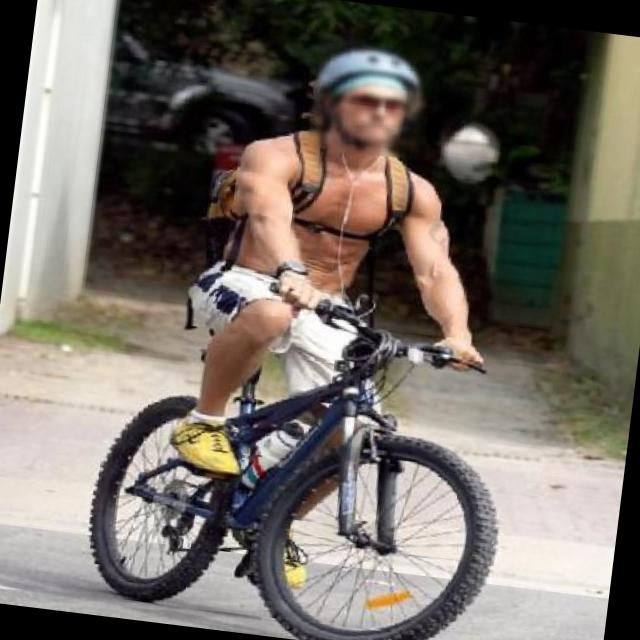With Helmet: (304, 40, 434, 164)
